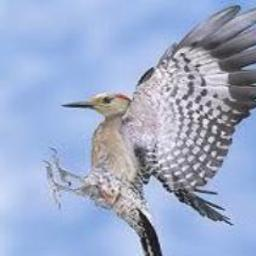Woodpecker: (43, 6, 256, 256)
